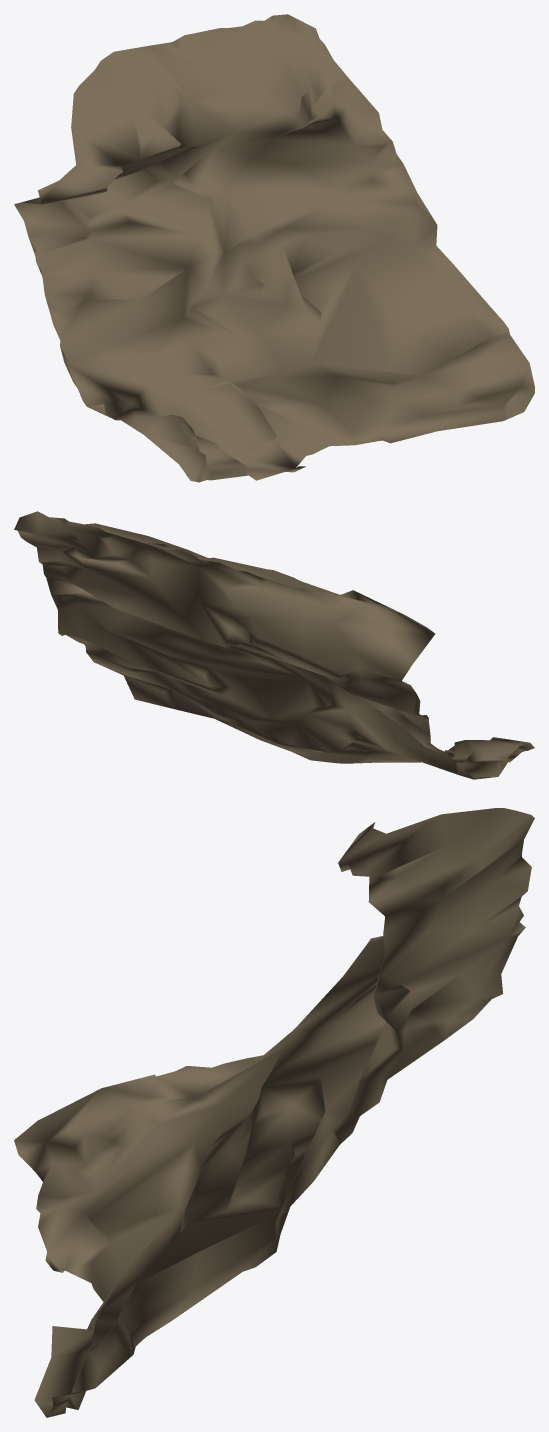
File: OutcropLayered.far.gltf
The picture shows the model from 3 angles, top to bottom: view 1: azimuth 30°, elevation 25°; view 2: azimuth 150°, elevation 25°; view 3: azimuth 270°, elevation 25°; orthographic projection. The views are drawn at different scales.
Visible parts, largest first — view 1: lo; view 2: lo; view 3: lo.
Boxes of the visible parts, bbox=[...] form: lo: bbox=[14, 14, 534, 482]; lo: bbox=[14, 511, 534, 779]; lo: bbox=[14, 808, 534, 1417].
Size of the model in its own units: 5.84 by 4.21 by 4.51.
